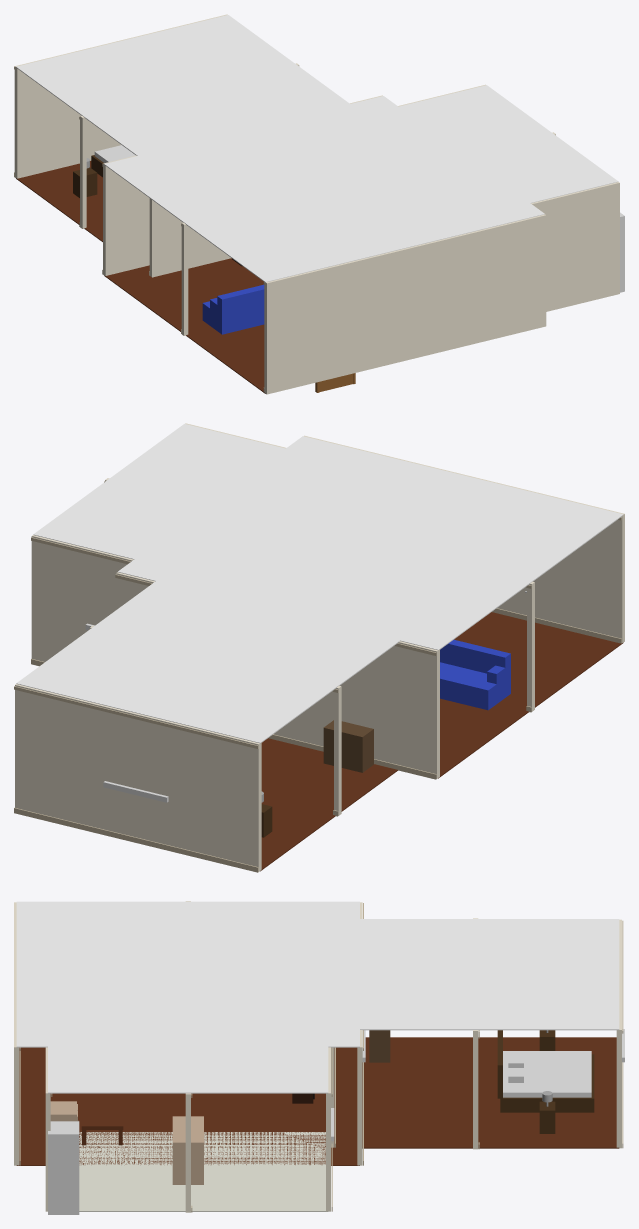
Rendered from ultra_detailed_5709.obj.
3 views of the same model, one above another, from view 1: azimuth 30°, elevation 25°; view 2: azimuth 150°, elevation 25°; view 3: azimuth 270°, elevation 25° (orthographic). The views are drawn at different scales.
Parts seen in each view (by area): view 1: Living_Room_ceiling_Living_Room_ceiling_material, Living_Room_front_wall_Living_Room_front_wall_material, Master_Bedroom_ceiling_Master_Bedroom_ceiling_material, Kitchen_ceiling_Kitchen_ceiling_material, Kitchen_front_wall_Kitchen_front_wall_material, Living_Room_floor_Living_Room_floor_material, Master_Bedroom_back_wall_Master_Bedroom_back_wall_material, Living_Room_back_wall_Living_Room_back_wall_material, Master_Bedroom_front_wall_Master_Bedroom_front_wall_material, Master_Bedroom_floor_Master_Bedroom_floor_material, Living_Room_sofa_back_Living_Room_sofa_fabric.001, Living_Room_sofa_base_Living_Room_sofa_fabric (+2 smaller); view 2: Living_Room_ceiling_Living_Room_ceiling_material, Master_Bedroom_ceiling_Master_Bedroom_ceiling_material, Master_Bedroom_back_wall_Master_Bedroom_back_wall_material, Kitchen_ceiling_Kitchen_ceiling_material, Living_Room_back_wall_Living_Room_back_wall_material, Living_Room_floor_Living_Room_floor_material, Living_Room_front_wall_Living_Room_front_wall_material, Master_Bedroom_floor_Master_Bedroom_floor_material, Kitchen_back_wall_Kitchen_back_wall_material, Living_Room_sofa_base_Living_Room_sofa_fabric, Master_Bedroom_dresser_Master_Bedroom_dresser_material, Living_Room_sofa_back_Living_Room_sofa_fabric.001 (+6 smaller); view 3: Living_Room_ceiling_Living_Room_ceiling_material, Master_Bedroom_ceiling_Master_Bedroom_ceiling_material, Master_Bedroom_floor_Master_Bedroom_floor_material, Kitchen_floor_Kitchen_floor_material, Living_Room_floor_Living_Room_floor_material, Kitchen_ceiling_Kitchen_ceiling_material, Master_Bedroom_bed_mattress_Master_Bedroom_bed_bedding, Kitchen_fridge_Kitchen_fridge_material, Kitchen_island_Kitchen_island_material, Living_Room_coffee_table_top_Living_Room_coffee_table_wood, Master_Bedroom_bed_base_Master_Bedroom_bed_wood, Living_Room_front_wall_Living_Room_front_wall_material (+9 smaller).
Boxes of the visible parts, x1,y1,x2,y2 form: Living_Room_ceiling_Living_Room_ceiling_material: [104, 96, 544, 282]; Living_Room_front_wall_Living_Room_front_wall_material: [264, 214, 546, 394]; Master_Bedroom_ceiling_Master_Bedroom_ceiling_material: [16, 15, 357, 155]; Kitchen_ceiling_Kitchen_ceiling_material: [337, 85, 618, 217]; Kitchen_front_wall_Kitchen_front_wall_material: [531, 182, 619, 311]; Living_Room_floor_Living_Room_floor_material: [104, 258, 265, 393]; Master_Bedroom_back_wall_Master_Bedroom_back_wall_material: [14, 14, 227, 178]; Living_Room_back_wall_Living_Room_back_wall_material: [103, 95, 382, 275]; Master_Bedroom_front_wall_Master_Bedroom_front_wall_material: [149, 198, 231, 277]; Master_Bedroom_floor_Master_Bedroom_floor_material: [16, 161, 149, 274]; Living_Room_sofa_back_Living_Room_sofa_fabric.001: [217, 284, 264, 324]; Living_Room_sofa_base_Living_Room_sofa_fabric: [202, 301, 264, 334]; Living_Room_ceiling_Living_Room_ceiling_material: [118, 436, 623, 650]; Master_Bedroom_ceiling_Master_Bedroom_ceiling_material: [16, 572, 399, 743]; Master_Bedroom_back_wall_Master_Bedroom_back_wall_material: [15, 684, 261, 871]; Kitchen_ceiling_Kitchen_ceiling_material: [33, 424, 357, 560]; Living_Room_back_wall_Living_Room_back_wall_material: [116, 572, 439, 778]; Living_Room_floor_Living_Room_floor_material: [438, 612, 623, 778]; Living_Room_front_wall_Living_Room_front_wall_material: [304, 435, 624, 642]; Master_Bedroom_floor_Master_Bedroom_floor_material: [260, 738, 397, 871]; Kitchen_back_wall_Kitchen_back_wall_material: [31, 535, 133, 661]; Living_Room_sofa_base_Living_Room_sofa_fabric: [440, 662, 510, 710]; Master_Bedroom_dresser_Master_Bedroom_dresser_material: [323, 720, 373, 772]; Living_Room_sofa_back_Living_Room_sofa_fabric.001: [440, 639, 510, 685]; Living_Room_ceiling_Living_Room_ceiling_material: [16, 901, 359, 1047]; Master_Bedroom_ceiling_Master_Bedroom_ceiling_material: [332, 919, 619, 1030]; Master_Bedroom_floor_Master_Bedroom_floor_material: [343, 1037, 619, 1148]; Kitchen_floor_Kitchen_floor_material: [79, 1132, 328, 1211]; Living_Room_floor_Living_Room_floor_material: [16, 1047, 359, 1165]; Kitchen_ceiling_Kitchen_ceiling_material: [48, 1015, 328, 1093]; Master_Bedroom_bed_mattress_Master_Bedroom_bed_bedding: [503, 1051, 591, 1097]; Kitchen_fridge_Kitchen_fridge_material: [48, 1121, 79, 1214]; Kitchen_island_Kitchen_island_material: [172, 1116, 203, 1184]; Living_Room_coffee_table_top_Living_Room_coffee_table_wood: [81, 1093, 123, 1129]; Master_Bedroom_bed_base_Master_Bedroom_bed_wood: [500, 1054, 594, 1112]; Living_Room_front_wall_Living_Room_front_wall_material: [14, 902, 19, 1165].
Bounding box in the file's own units: 8.85 × 2.87 × 11.7.
